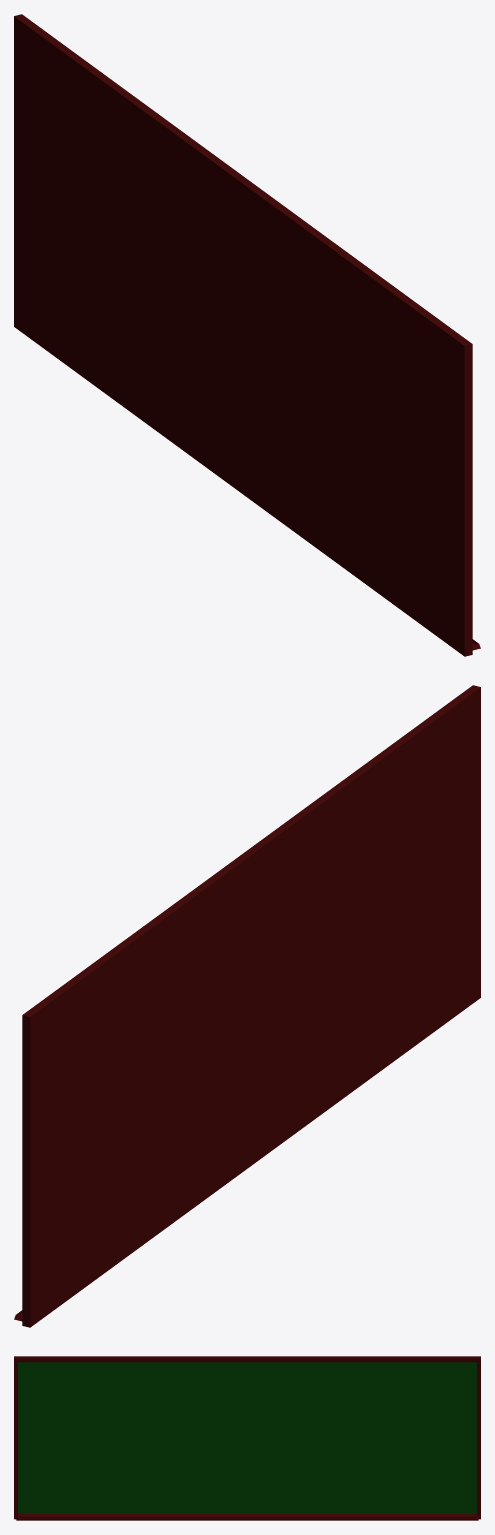
The model's file is board.fbx.
3 renders of one model, top to bottom at view 1: azimuth 30°, elevation 25°; view 2: azimuth 150°, elevation 25°; view 3: azimuth 270°, elevation 25°, orthographic. The views are drawn at different scales.
Visible parts, largest first — view 1: Cube.003; view 2: Cube.003; view 3: Cube.001, Cube.003.
Part boxes in pixels (box(x1,y1,x2,y2)): Cube.003: box(14, 14, 480, 656); Cube.003: box(14, 685, 480, 1327); Cube.001: box(18, 1362, 476, 1513); Cube.003: box(14, 1356, 480, 1520).
Bounding box in the file's own units: 40.99 × 660 × 1736.
